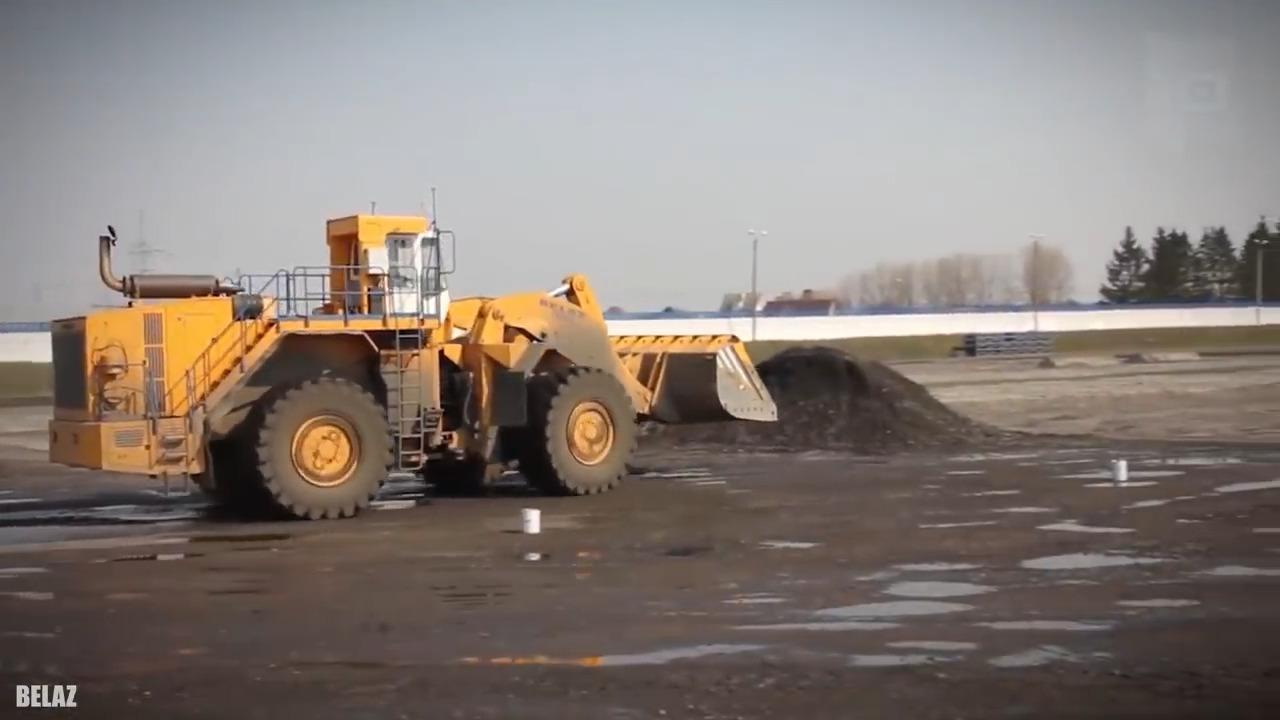wheel loader: (42, 204, 779, 523)
